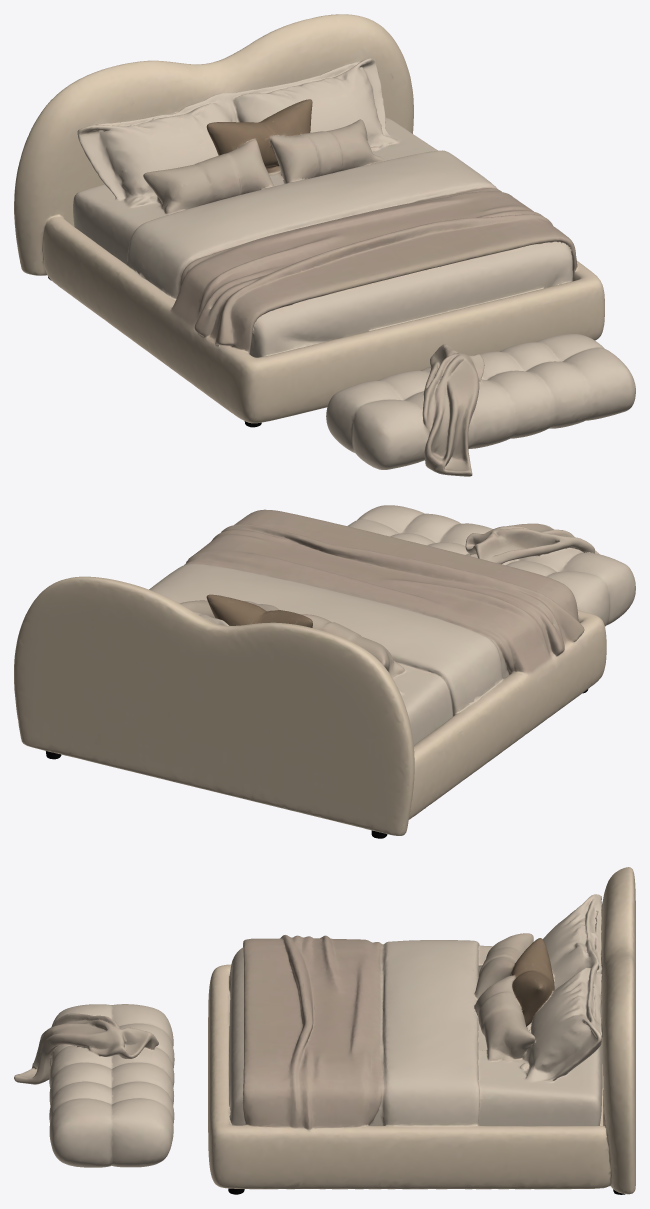
File: Contemporary Upholstered Platform Bed with Organic Headboard and Matching Tufted Bench [cf1ENn].glb
3 views of the same model, one above another, from view 1: azimuth 30°, elevation 25°; view 2: azimuth 150°, elevation 25°; view 3: azimuth 270°, elevation 25° (orthographic). The views are drawn at different scales.
Visible parts, largest first — view 1: world; view 2: world; view 3: world.
Boxes of the visible parts, x1=… form: world: x1=14, y1=14, x2=635, y2=476; world: x1=14, y1=505, x2=635, y2=838; world: x1=14, y1=867, x2=635, y2=1194.
Bounding box in the file's own units: 0.716 × 0.3328 × 1.
1 material, 1 textured.
